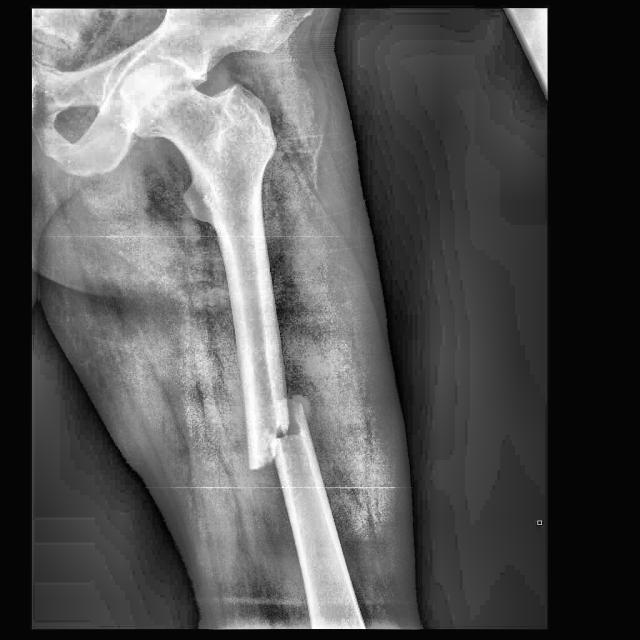messed_up_angle: (238, 384, 314, 484)
